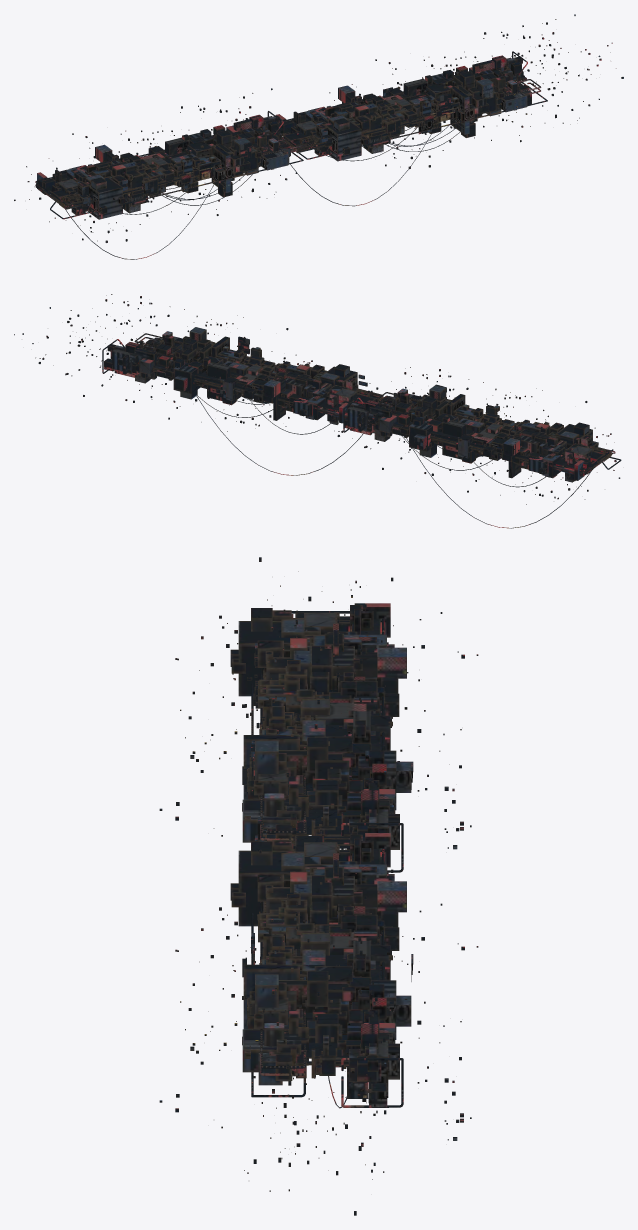
The model's file is industrial.glb.
3 views of the same model, one above another, from view 1: azimuth 30°, elevation 25°; view 2: azimuth 150°, elevation 25°; view 3: azimuth 270°, elevation 25° (orthographic). The views are drawn at different scales.
Visible parts, largest first — view 1: blocks_a, blocks_b, rails, plate, lights, scatter, cables; view 2: blocks_a, blocks_b, plate, lights, rails, cables, scatter; view 3: blocks_a, blocks_b, plate, lights, rails, scatter.
Part boxes in pixels (x1=…): blocks_a: x1=37, y1=57, x2=529, y2=219; blocks_b: x1=38, y1=55, x2=531, y2=214; rails: x1=35, y1=51, x2=547, y2=219; plate: x1=35, y1=92, x2=437, y2=209; lights: x1=14, y1=14, x2=623, y2=242; scatter: x1=82, y1=85, x2=451, y2=206; cables: x1=59, y1=125, x2=460, y2=259; blocks_a: x1=112, y1=331, x2=605, y2=482; blocks_b: x1=104, y1=327, x2=605, y2=481; plate: x1=132, y1=350, x2=612, y2=476; lights: x1=14, y1=294, x2=620, y2=504; rails: x1=102, y1=333, x2=621, y2=471; cables: x1=196, y1=395, x2=591, y2=528; scatter: x1=170, y1=336, x2=598, y2=449; blocks_a: x1=238, y1=603, x2=399, y2=1105; blocks_b: x1=230, y1=603, x2=411, y2=1107; plate: x1=262, y1=612, x2=385, y2=1067; lights: x1=159, y1=557, x2=478, y2=1215; rails: x1=251, y1=611, x2=403, y2=1107; scatter: x1=242, y1=643, x2=413, y2=1011.
Size of the model in its own units: 204 by 44.06 by 47.05.
Materials: 1 (1 with a texture image).
